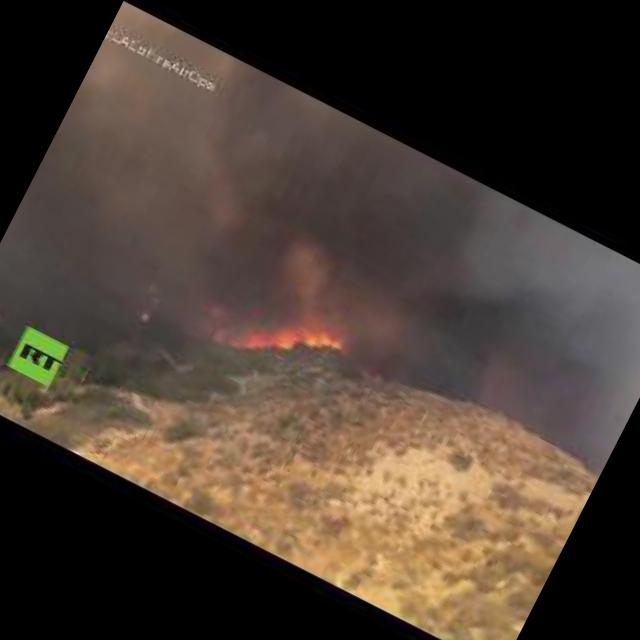fire: (248, 301, 346, 384)
